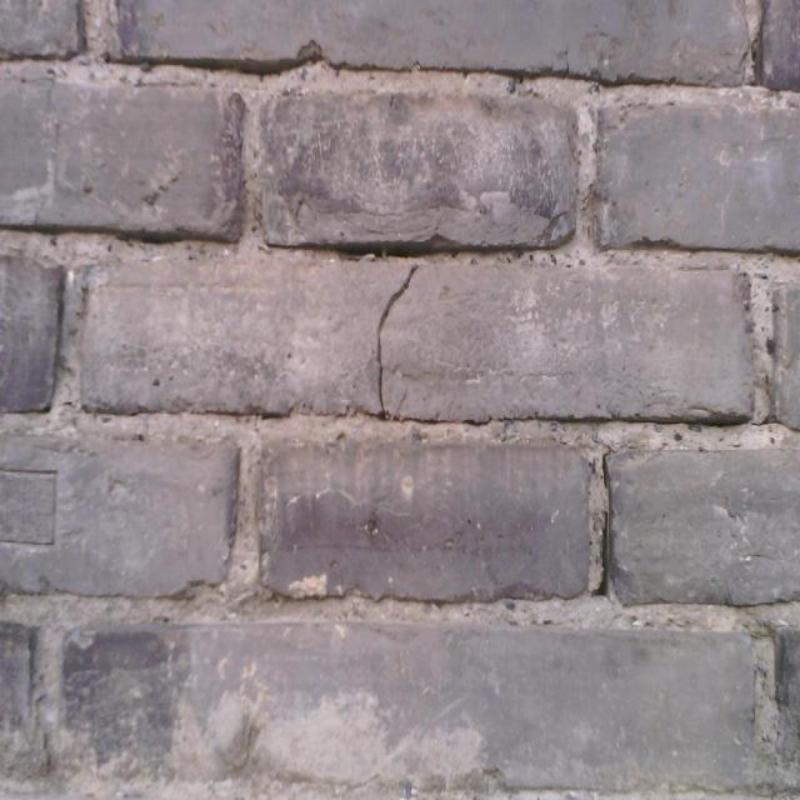crack: (377, 265, 419, 411)
